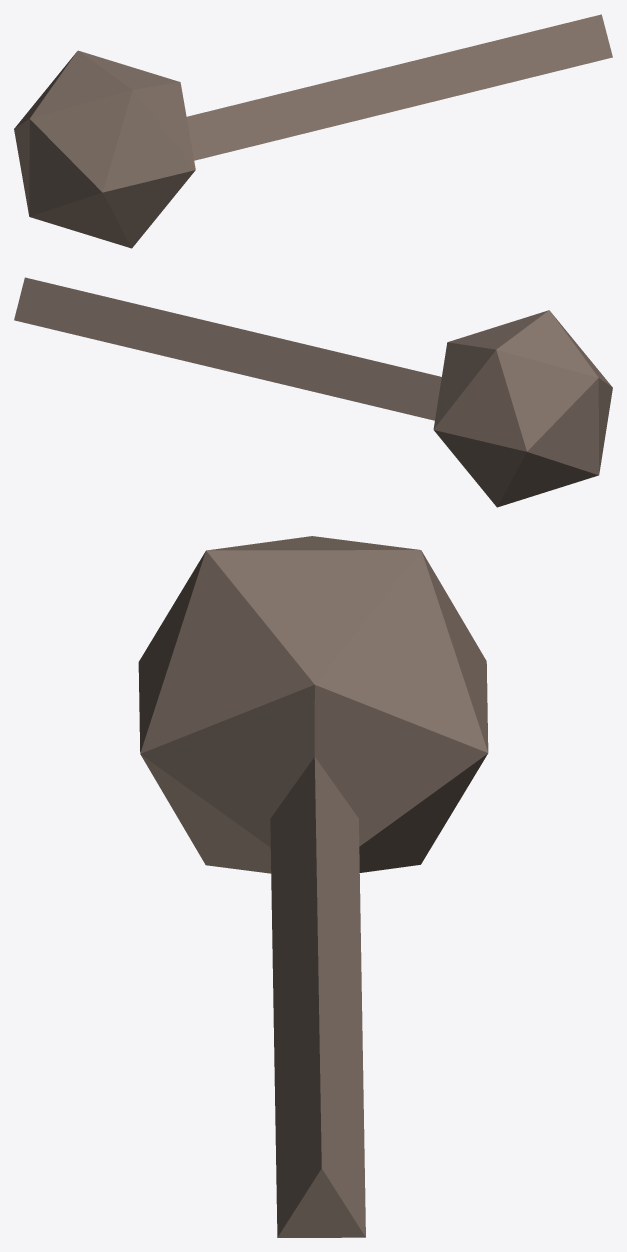
File: ITMI_DRUMSTICK_01.OBJ
3 renders of one model, top to bottom at view 1: azimuth 30°, elevation 25°; view 2: azimuth 150°, elevation 25°; view 3: azimuth 270°, elevation 25°, orthographic. The views are drawn at different scales.
Parts seen in each view (by area): view 1: ITMI_DRUMSTICK_01; view 2: ITMI_DRUMSTICK_01; view 3: ITMI_DRUMSTICK_01.
Part boxes in pixels (box(x1,y1,x2,y2)): ITMI_DRUMSTICK_01: box(14, 14, 612, 248); ITMI_DRUMSTICK_01: box(14, 277, 612, 507); ITMI_DRUMSTICK_01: box(138, 536, 488, 1237).
Size of the model in its own units: 0.5164 by 0.1362 by 0.1367.
